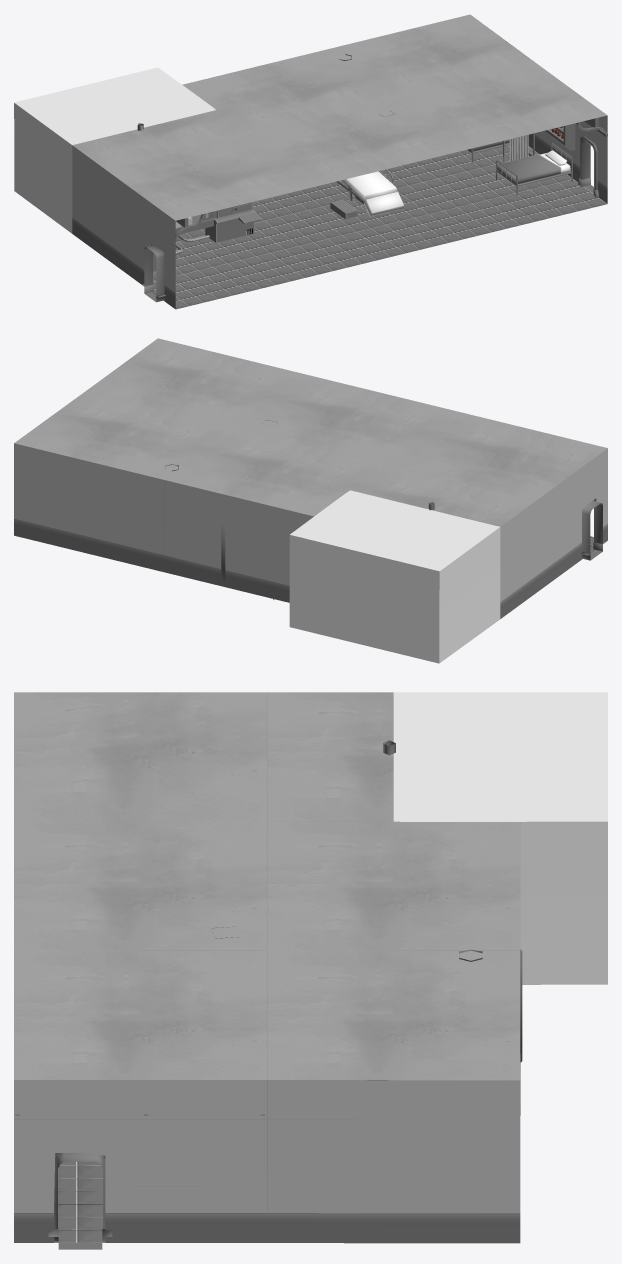
The model's file is MSH_Med_room_L3_R3_optimized.fbx.
3 views of the same model, one above another, from view 1: azimuth 30°, elevation 25°; view 2: azimuth 150°, elevation 25°; view 3: azimuth 270°, elevation 25° (orthographic). The views are drawn at different scales.
Parts seen in each view (by area): view 1: lightmap0, lightmap1, lightmap-1; view 2: lightmap0, lightmap-1; view 3: lightmap0, lightmap1.
Boxes of the visible parts, <box> form: lightmap0: <box>14,14,607,309</box>; lightmap1: <box>137,54,575,272</box>; lightmap-1: <box>144,140,593,302</box>; lightmap0: <box>14,338,607,663</box>; lightmap-1: <box>582,501,602,560</box>; lightmap0: <box>14,692,607,1243</box>; lightmap1: <box>132,740,522,1187</box>.
Size of the model in its own units: 30.91 by 6.33 by 19.37.
